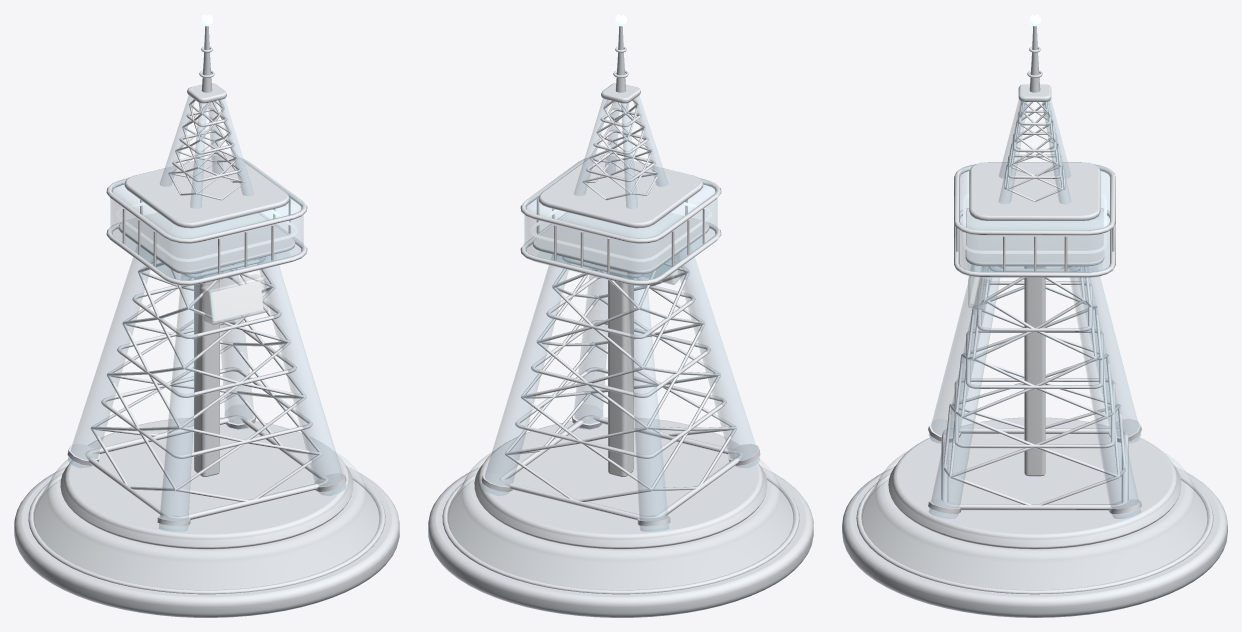
3 views of the same model, side by side, from view 1: azimuth 30°, elevation 25°; view 2: azimuth 150°, elevation 25°; view 3: azimuth 270°, elevation 25° (orthographic).
Parts seen in each view (by area): view 1: SapporoTVTower_ChessPiece; view 2: SapporoTVTower_ChessPiece; view 3: SapporoTVTower_ChessPiece.
Part boxes in pixels (x1,y1,x2,y2): SapporoTVTower_ChessPiece: (14,14,399,617); SapporoTVTower_ChessPiece: (428,14,813,617); SapporoTVTower_ChessPiece: (842,14,1227,617).
Size of the model in its own units: 2 by 3 by 2.
